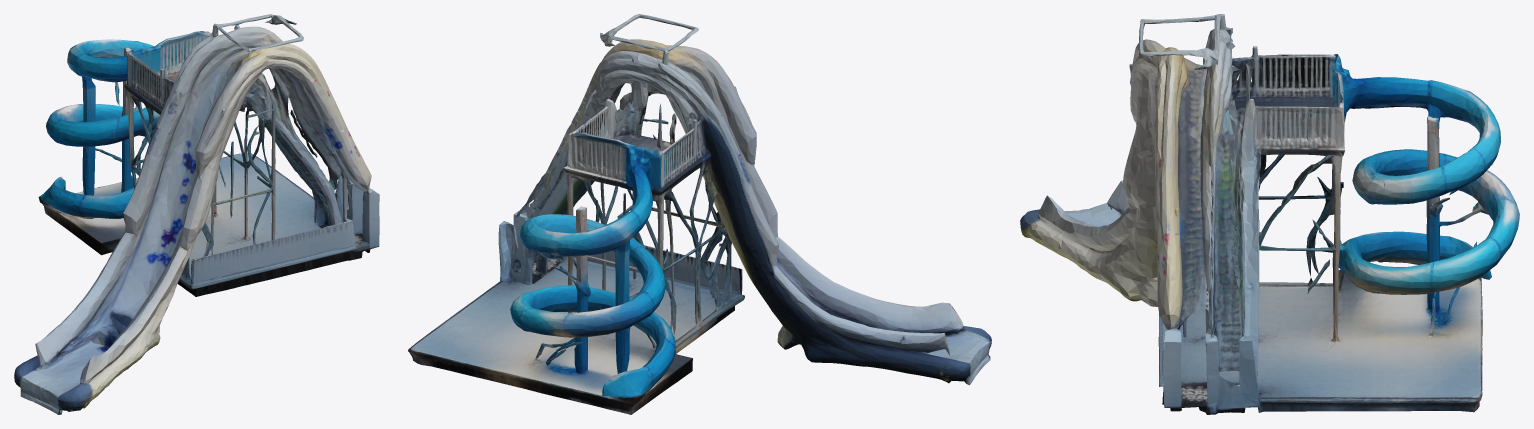
File: Water_Slide.glb
The picture shows the model from 3 angles, left to right: view 1: azimuth 30°, elevation 25°; view 2: azimuth 150°, elevation 25°; view 3: azimuth 270°, elevation 25°; orthographic projection. The views are drawn at different scales.
Parts seen in each view (by area): view 1: world; view 2: world; view 3: world.
Boxes of the visible parts, left/top/right/bottom form: world: left=14, top=14, right=379, bottom=414; world: left=408, top=14, right=991, bottom=414; world: left=1020, top=14, right=1519, bottom=414.
Size of the model in its own units: 1 by 0.7092 by 0.8913.
Materials: 1 (1 with a texture image).
